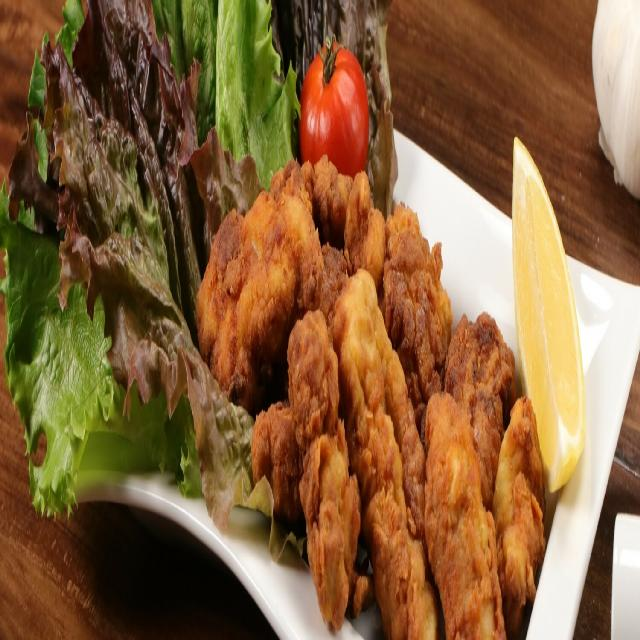Frango: (193, 153, 546, 640)
